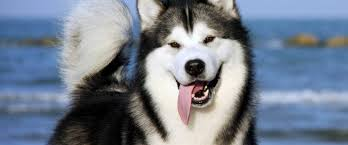dog: (52, 1, 254, 145)
